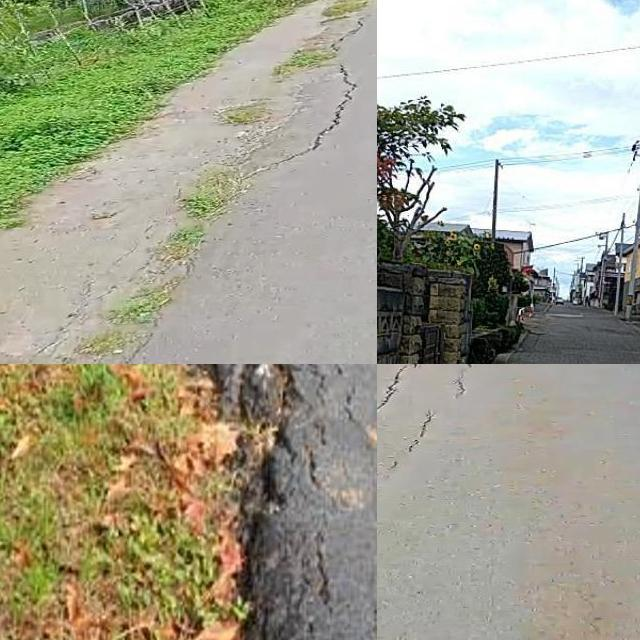Pinggir: (0, 0, 377, 364), (120, 364, 377, 640)
